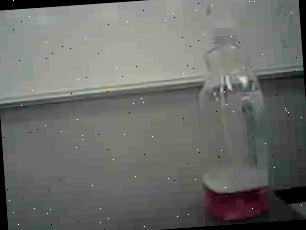hazard: (189, 0, 286, 224)
